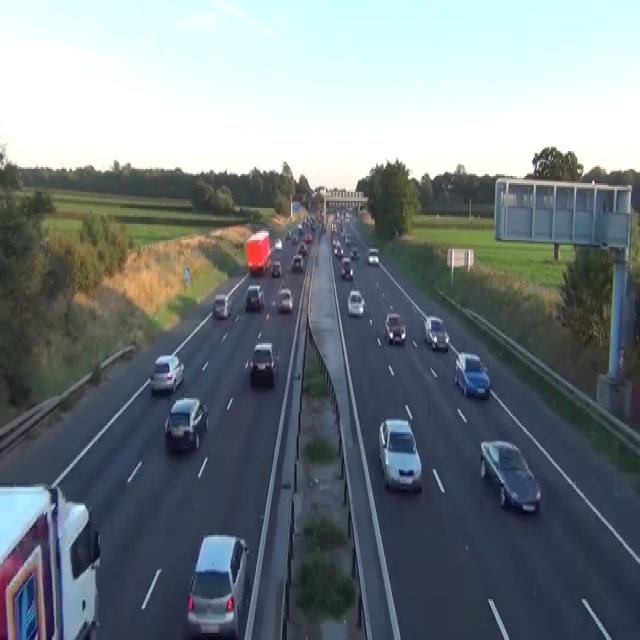Car: (186, 534, 250, 638), (479, 439, 541, 512), (378, 418, 422, 490), (164, 396, 208, 452), (454, 352, 490, 398), (149, 354, 184, 393), (249, 342, 278, 382), (424, 315, 449, 350), (384, 311, 406, 343), (245, 283, 264, 311), (212, 294, 232, 318), (347, 290, 365, 316), (277, 286, 293, 311), (340, 256, 353, 279), (291, 252, 303, 272), (367, 247, 379, 265), (271, 260, 282, 278), (334, 245, 344, 258), (297, 242, 307, 254), (350, 247, 359, 260), (274, 236, 282, 249), (331, 237, 340, 247), (304, 233, 312, 243), (284, 229, 291, 240), (297, 222, 303, 233), (291, 234, 298, 243), (318, 210, 323, 222), (344, 212, 350, 222), (344, 234, 350, 243), (331, 222, 336, 231), (310, 222, 315, 230), (341, 230, 346, 238)
Truck: (0, 482, 101, 638), (245, 229, 271, 274)
